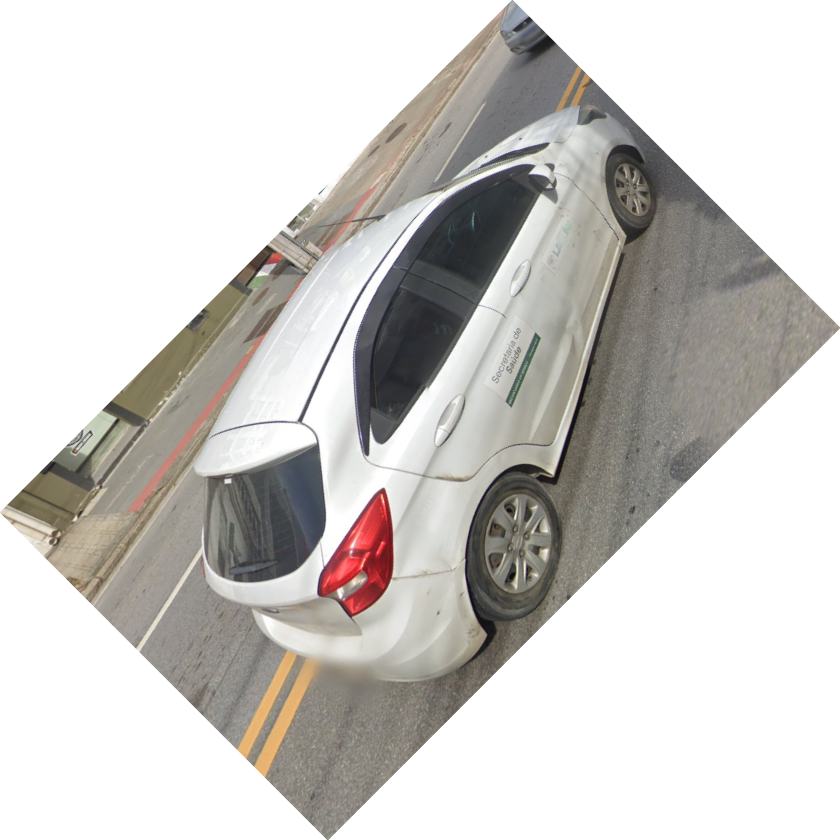car: (197, 102, 657, 684)
